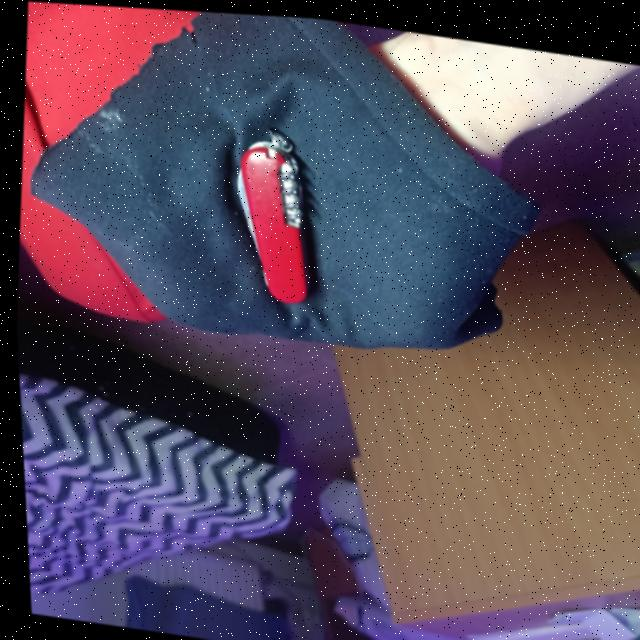knife victorinox: (235, 136, 304, 298)
